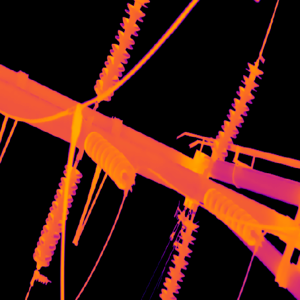insulator: (90, 0, 149, 102), (31, 162, 82, 266), (208, 60, 263, 156), (200, 185, 262, 246), (157, 216, 200, 300), (83, 129, 135, 189)
